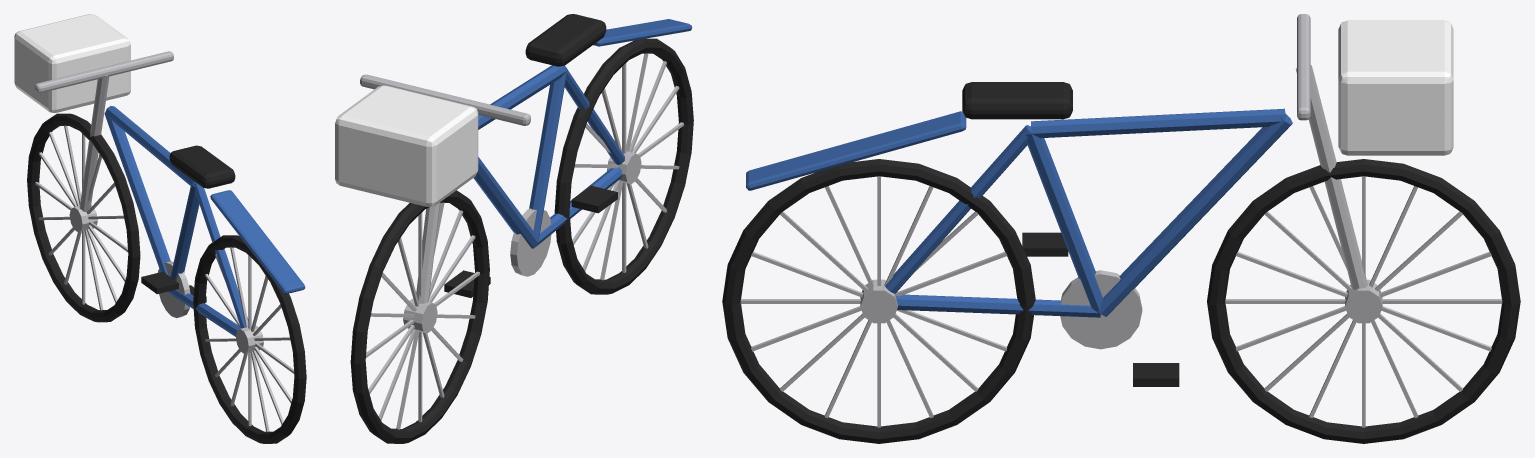
Rendered from bisiklet.glb.
3 renders of one model, left to right at view 1: azimuth 30°, elevation 25°; view 2: azimuth 150°, elevation 25°; view 3: azimuth 270°, elevation 25°, orthographic. The views are drawn at different scales.
Parts seen in each view (by area): view 1: Camurluk; view 2: Camurluk; view 3: Camurluk.
Part boxes in pixels (x1,y1,x2,y2): Camurluk: (14,14,306,443); Camurluk: (335,14,693,443); Camurluk: (722,14,1520,443).
Size of the model in its own units: 0.289 by 0.5491 by 1.
